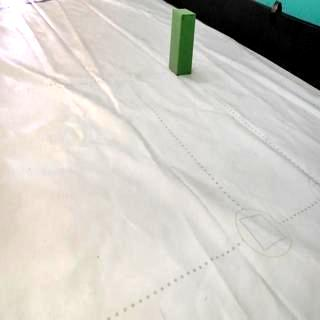greenbox: (168, 8, 196, 76)
